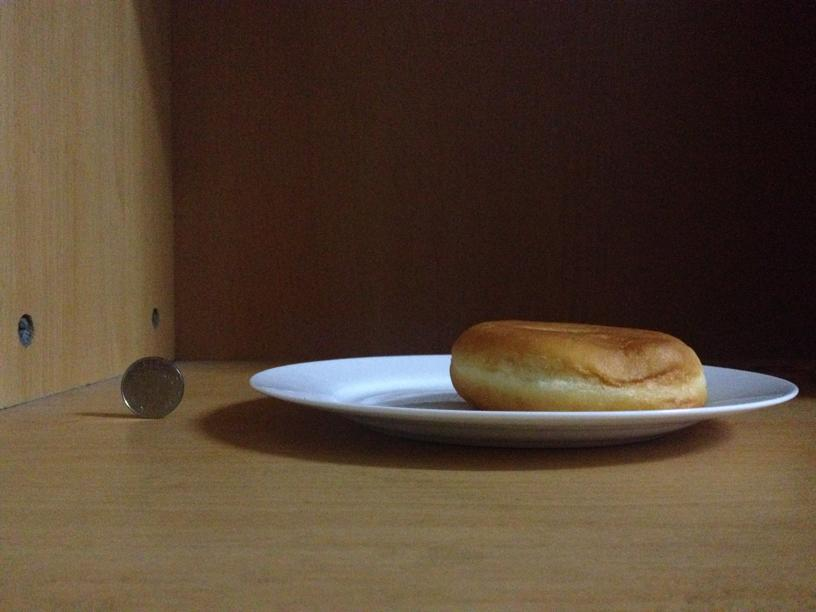coin: (115, 354, 183, 418)
doughnut: (449, 321, 705, 409)
